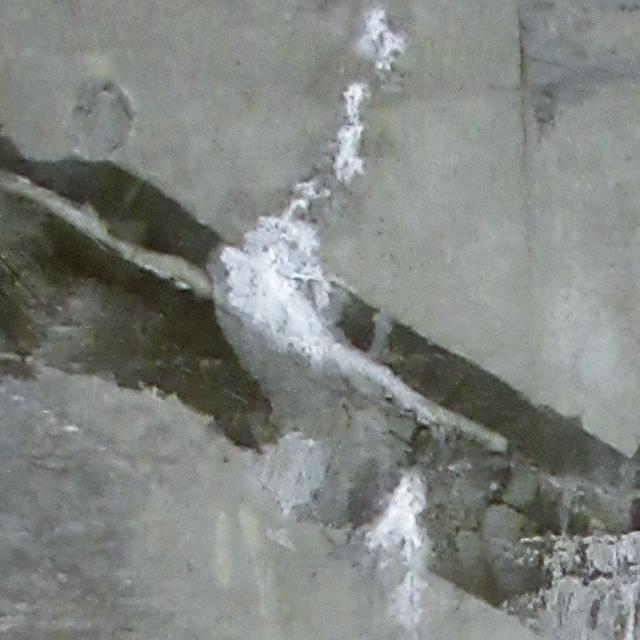D01: (366, 470, 426, 637), (334, 82, 369, 181), (358, 6, 404, 73)
